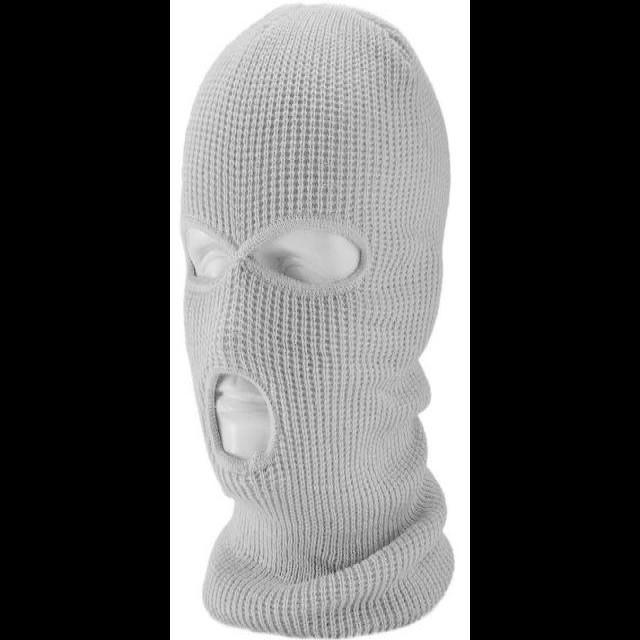6_pasamontana: (180, 1, 456, 639)
